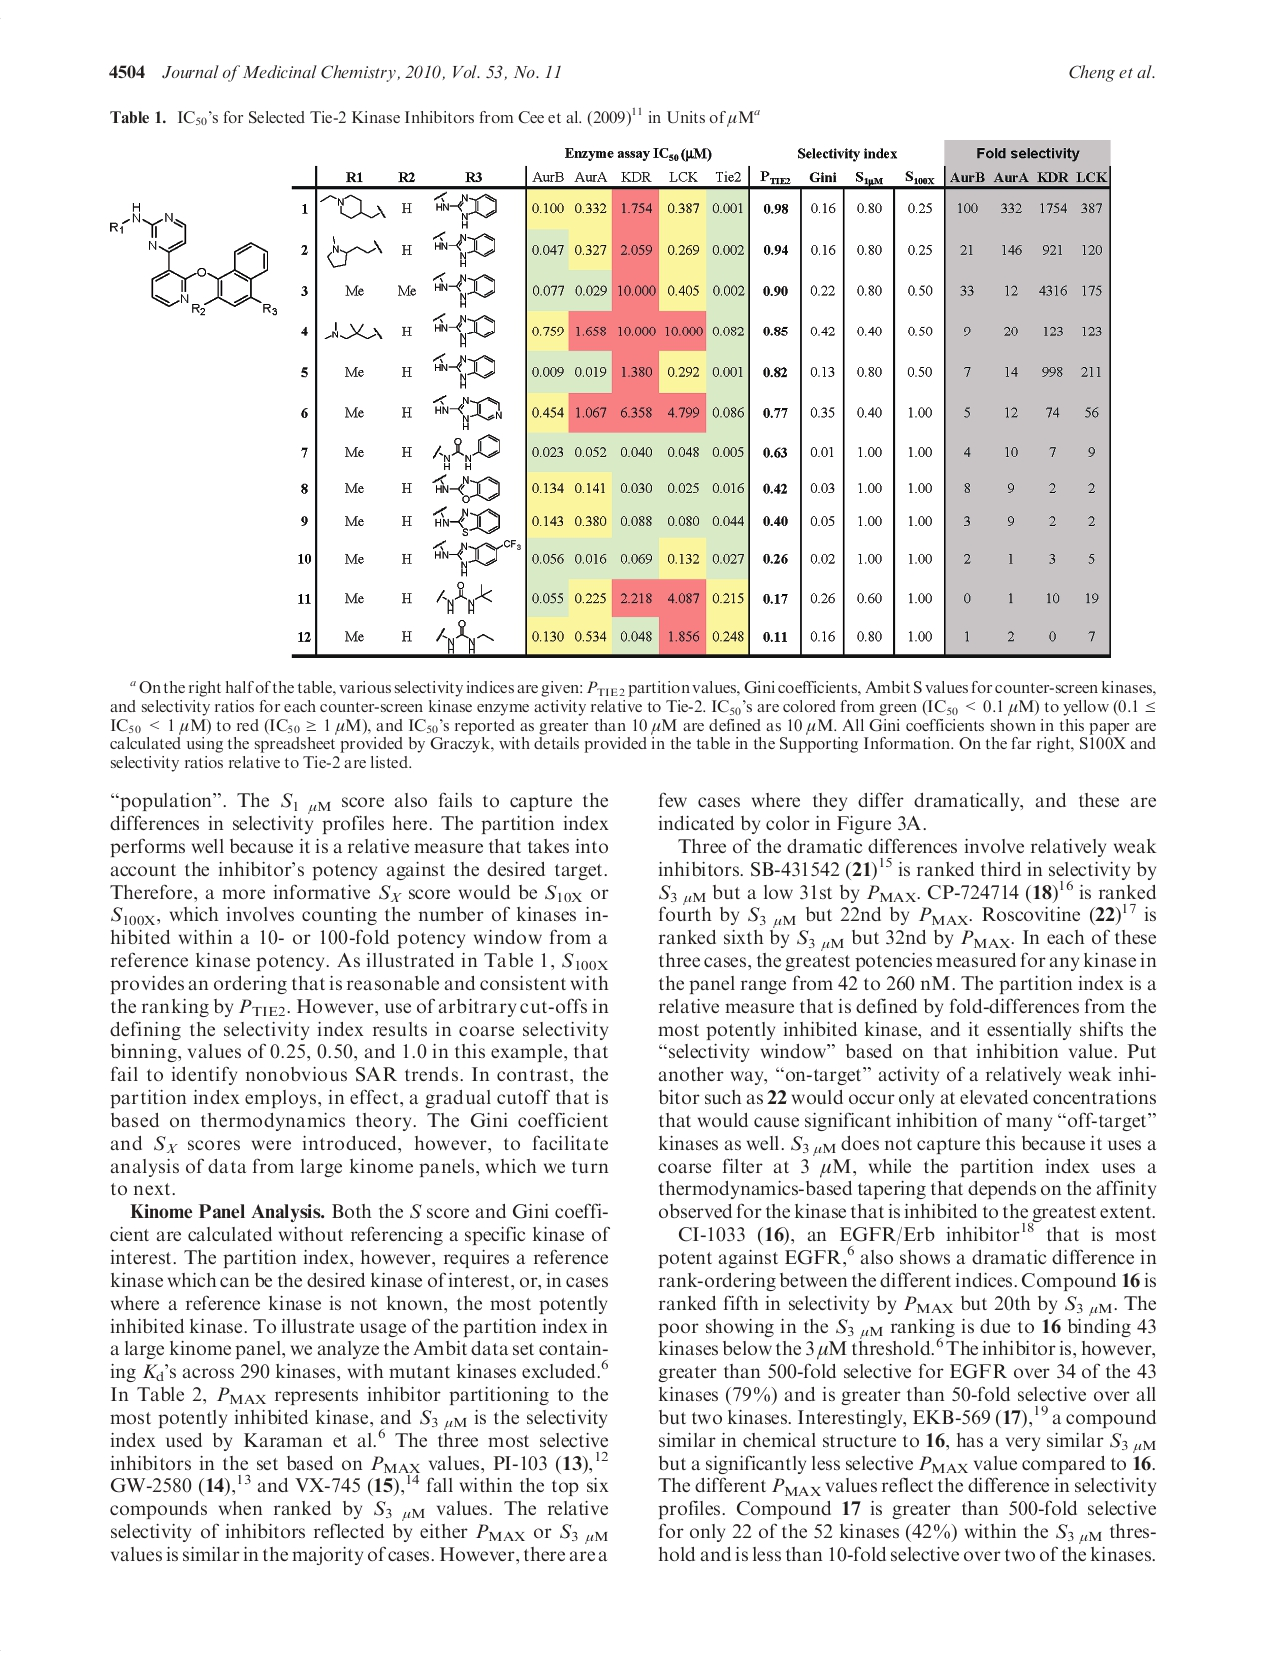exist_molecular: (106, 201, 281, 319), (431, 540, 523, 576), (432, 434, 501, 473), (432, 394, 503, 431), (432, 192, 497, 230), (432, 311, 497, 350), (431, 271, 495, 309), (432, 352, 496, 390), (434, 230, 495, 267), (434, 620, 496, 653), (432, 473, 501, 503), (432, 505, 501, 535), (435, 581, 493, 614), (326, 235, 383, 269), (320, 193, 387, 221), (323, 321, 384, 340)
